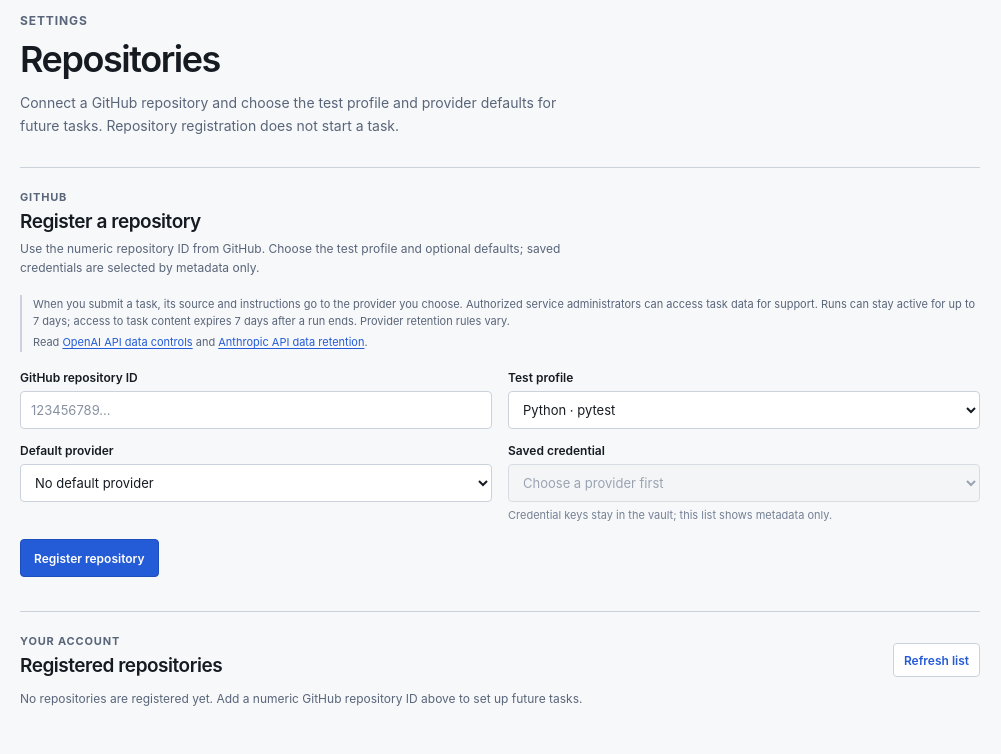
Test case: repository settings › registers the numeric GitHub ID without checking a commit and sends CSRF on writes
The image size is (1001, 754).
Type "123456789" into the field labelled "GitHub repository ID" at (256, 410), box [20, 391, 492, 429]
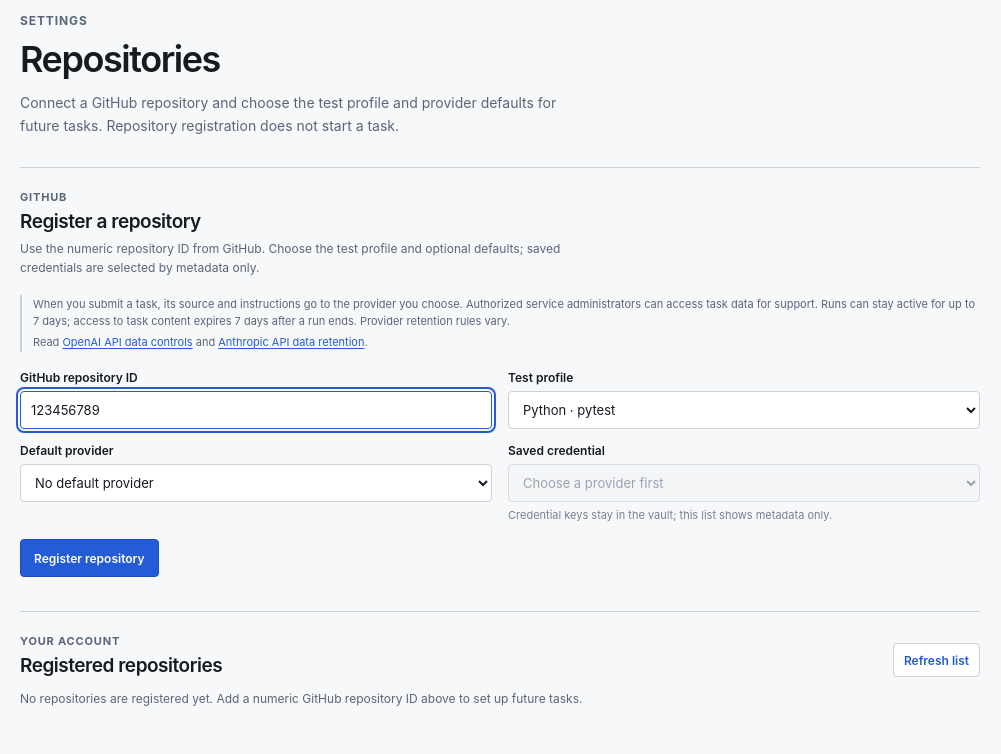
Select "Node.js · npm test" in the dropdown labelled "Test profile" at (744, 410), box [508, 391, 980, 429]
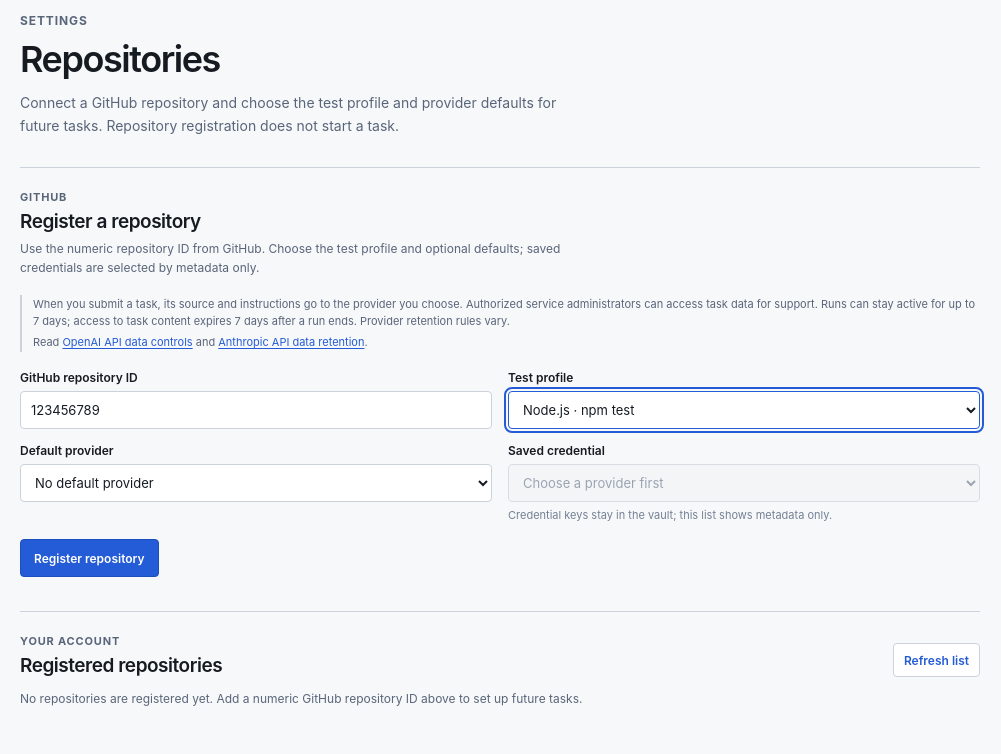
Click the button "Register repository" at (89, 558), box [20, 539, 159, 577]
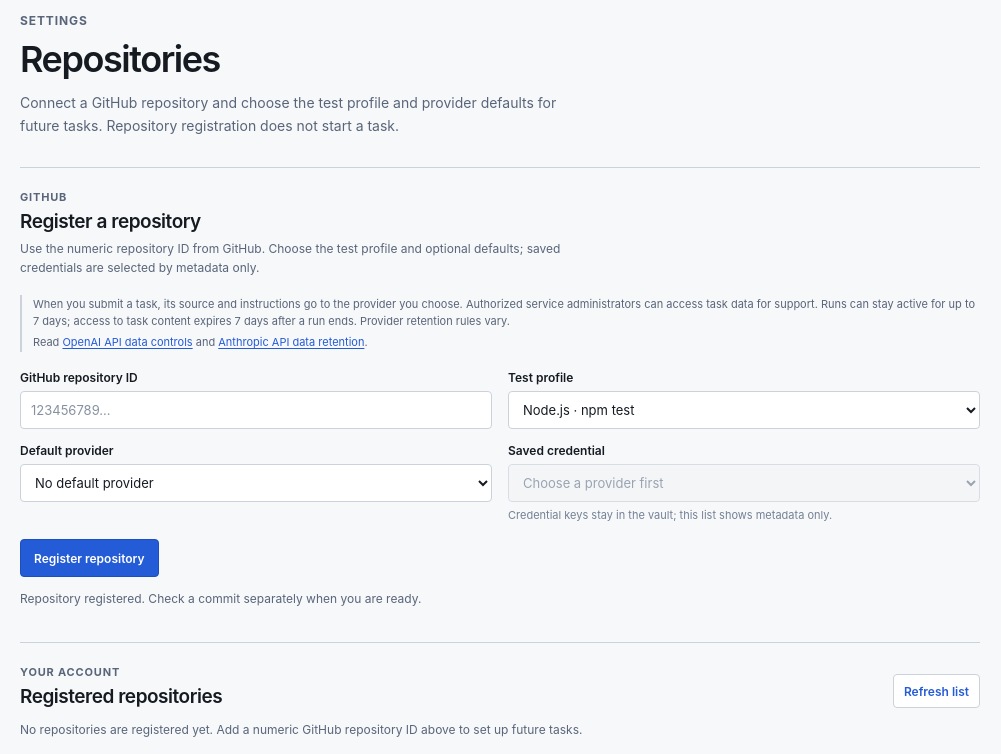
Now the message "Repository registered. Check a commit separately when you are ready." is shown, box [20, 591, 421, 606]
